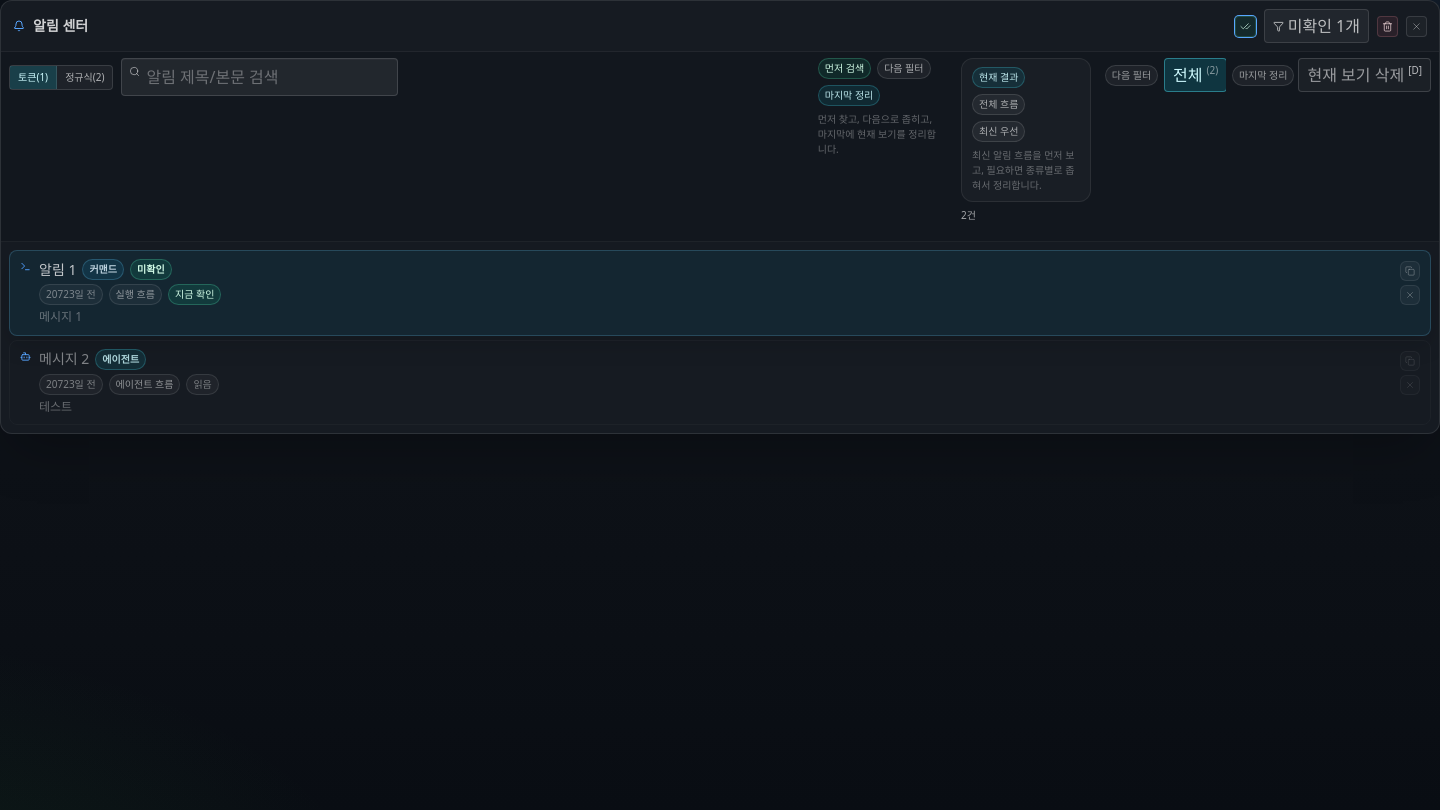
Test: NotificationCenter › 검색어 지우기 버튼이 동작한다
The width and height of the screenshot is (1440, 810).
Type "테스트" into the field named "알림 검색" at (260, 77), box [122,58,398,96]
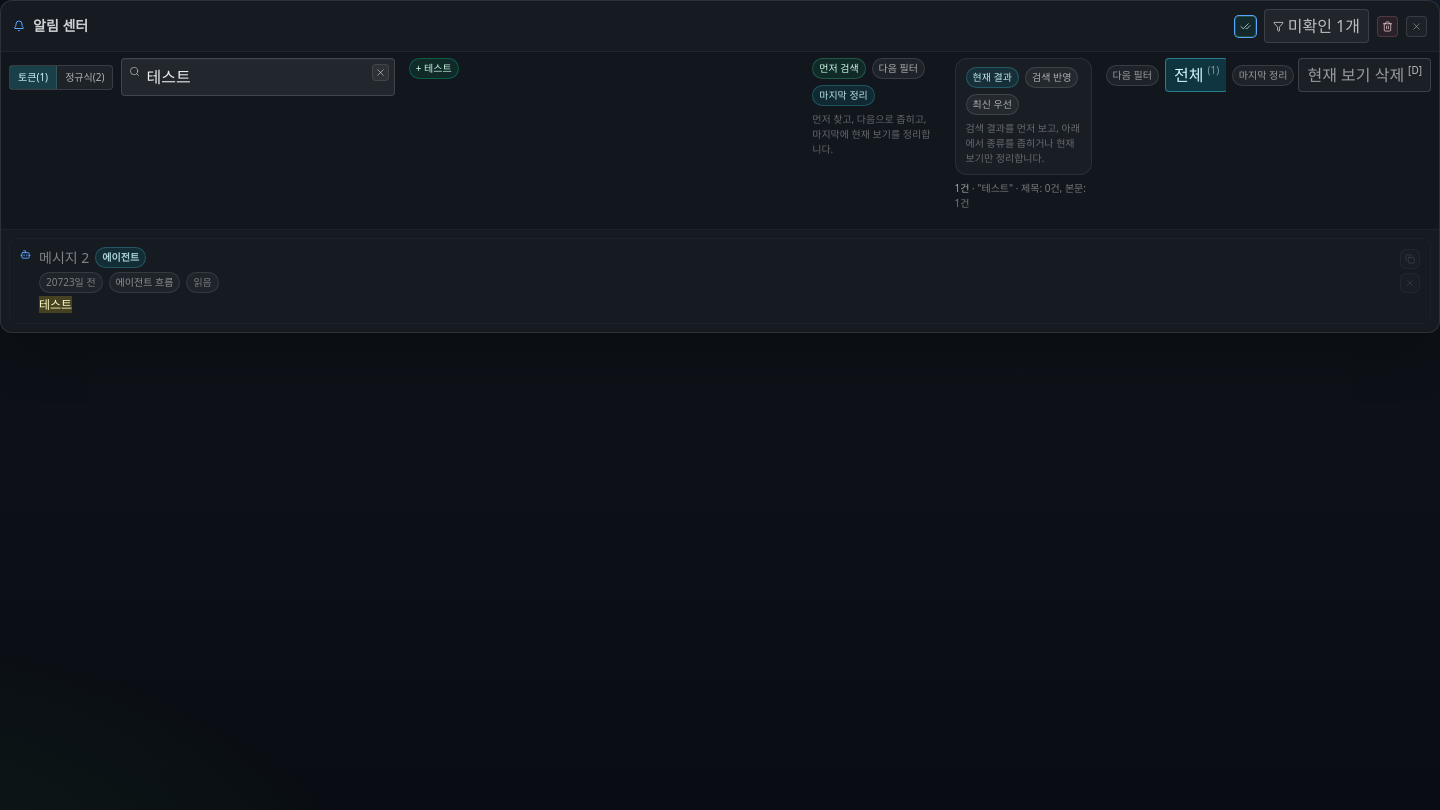
Click the button named "검색어 지우기" at (380, 72), box [372,64,389,81]
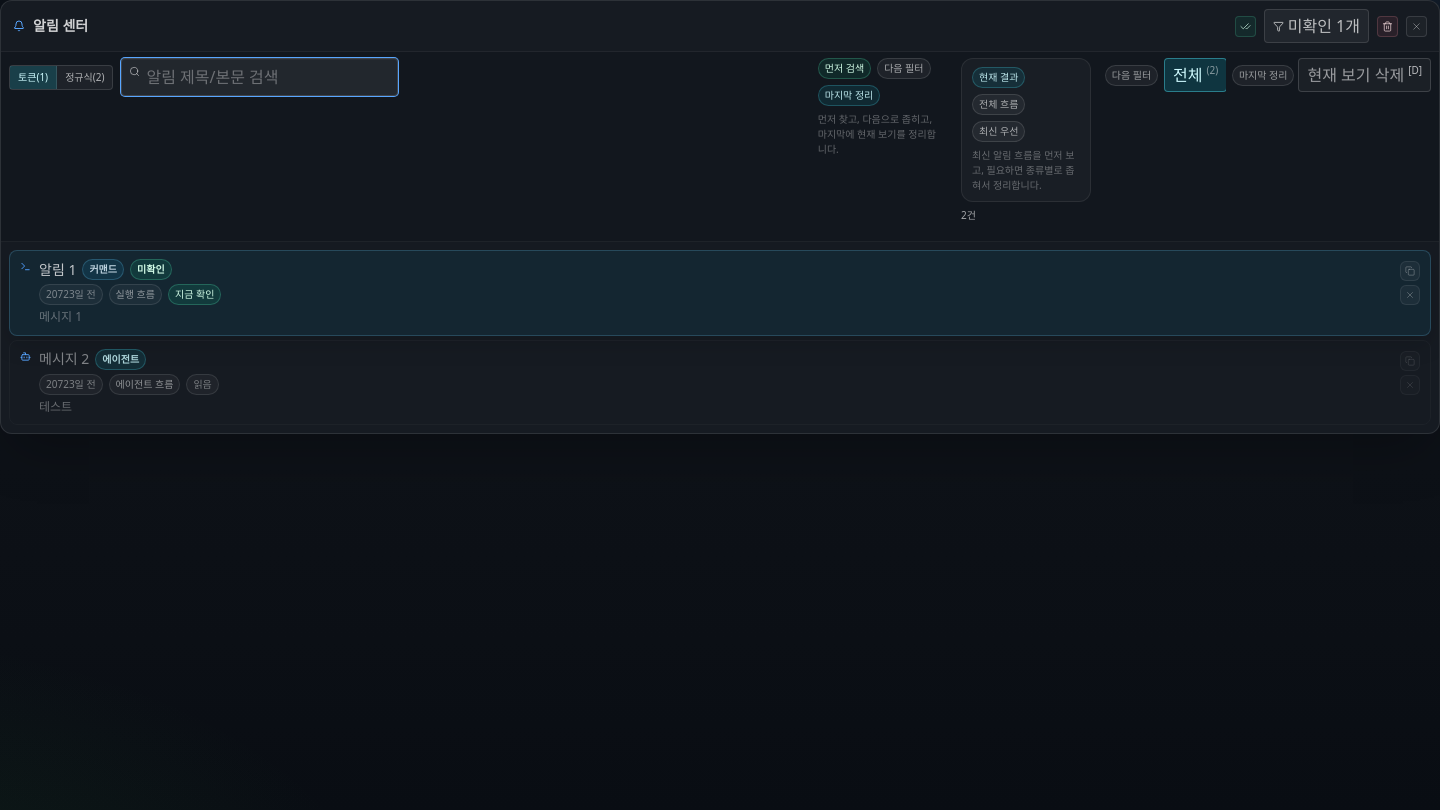
expect the text "메시지 2" is shown: met, box [39,349,89,369]
expect the field named "알림 검색" is empty: met, box [122,58,398,96]
expect the text "알림 1" is shown: met, box [39,260,76,280]
